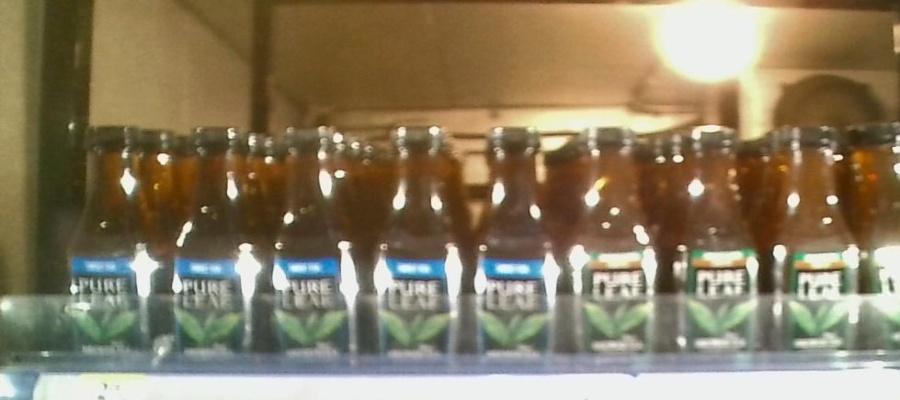bottle: (168, 122, 272, 368), (369, 124, 468, 375), (664, 120, 763, 370), (471, 119, 564, 374), (567, 116, 660, 370), (67, 123, 165, 364), (766, 121, 861, 368), (275, 121, 366, 371), (865, 121, 900, 362)
